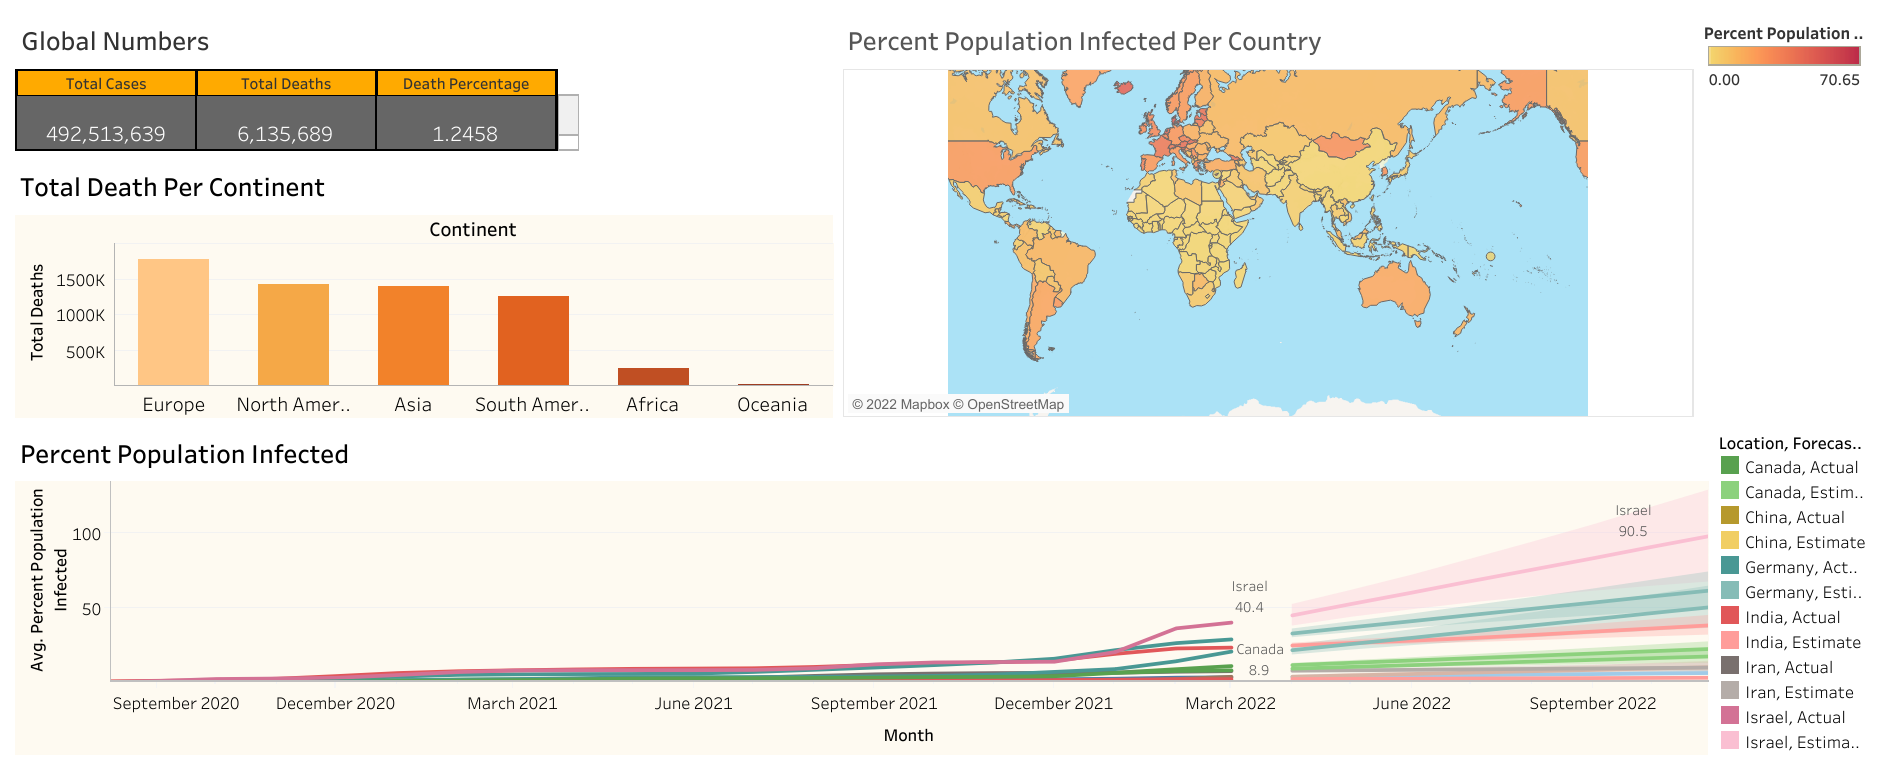

This screenshot's page, from the dashboard's own definition file:
{"tool":"tableau","page":{"name":"Dashboard 1","canvas":[1000,1000],"units":"permille","ordinal":0},"visuals":[{"type":"worksheet","title":"Sheet 1","mark":"Automatic","box":[4.9,9.8,443.7,190.5]},{"type":"worksheet","title":"Sheet 3","mark":"Automatic","box":[448.6,9.8,462.1,538.5]},{"type":"legend","title":"Sheet 3","param":"[federated.054j0820fxmdi417gtc2q1tqf23r].[sum:PercentPopulationInfected:qk]","box":[910.6,9.8,84.5,91.6]},{"type":"worksheet","title":"Sheet 2","mark":"Automatic","rows":["TotalDeathCount"],"cols":["location"],"box":[4.9,200.2,443.7,348]},{"type":"worksheet","title":"Sheet 4","mark":"Automatic","rows":["PercentPopulationInfected"],"cols":["date"],"box":[4.9,548.2,905.8,442]},{"type":"legend","title":"Sheet 4","param":"[federated.1wkob0t0gr9vaz165j6rs0iskizl].[none:Location:nk]\n[federated.1wkob0t0g","box":[910.6,548.2,84.5,442]}]}

Visuals, with their boxes on the dashboard's canvas, which has no fixed pixel size, in thousandths of its width and height (x1, y1, x2, y2). These are canvas units, not pixel positions in the 1880x769 screenshot, which may show the page scaled, cropped or inside an application window:
"Sheet 1" worksheet: {"x1": 5, "y1": 10, "x2": 449, "y2": 200}
"Sheet 3" worksheet: {"x1": 449, "y1": 10, "x2": 911, "y2": 548}
"Sheet 3" legend: {"x1": 911, "y1": 10, "x2": 995, "y2": 101}
"Sheet 2" worksheet: {"x1": 5, "y1": 200, "x2": 449, "y2": 548}
"Sheet 4" worksheet: {"x1": 5, "y1": 548, "x2": 911, "y2": 990}
"Sheet 4" legend: {"x1": 911, "y1": 548, "x2": 995, "y2": 990}
